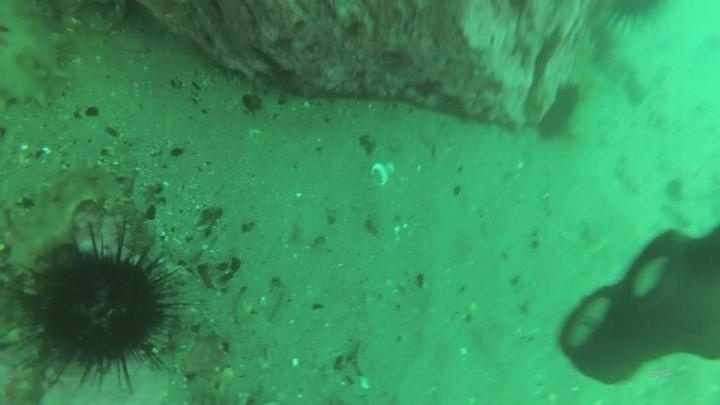echinus: (16, 230, 187, 390), (532, 81, 584, 143), (591, 1, 677, 36)
holothurian: (1, 166, 137, 272), (1, 6, 72, 111)
